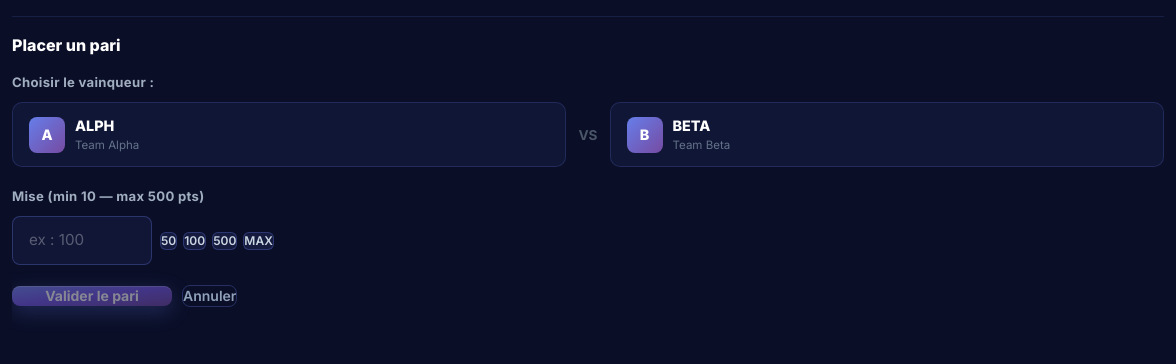
Scenario: PariForm › affiche le gain potentiel quand la mise est saisie
Step 1. Type "100" into the number field → (82, 241), box [12,216,152,265]
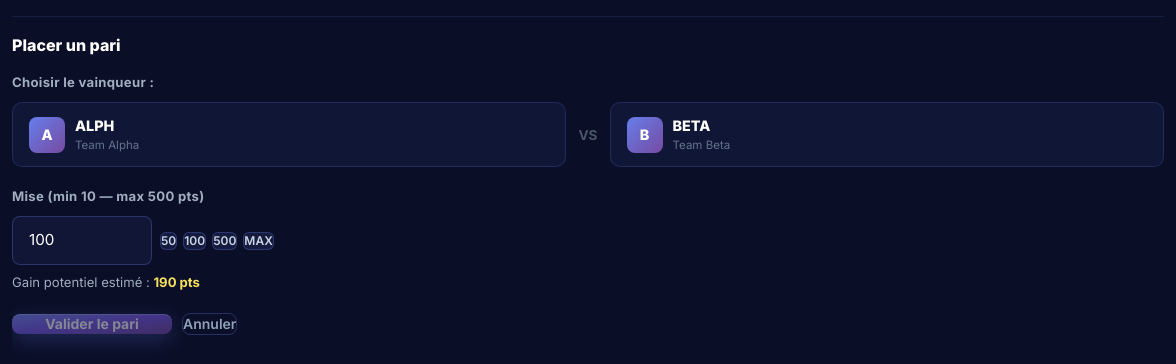
expect the text "190 pts" is shown: met, box [154,274,200,290]
